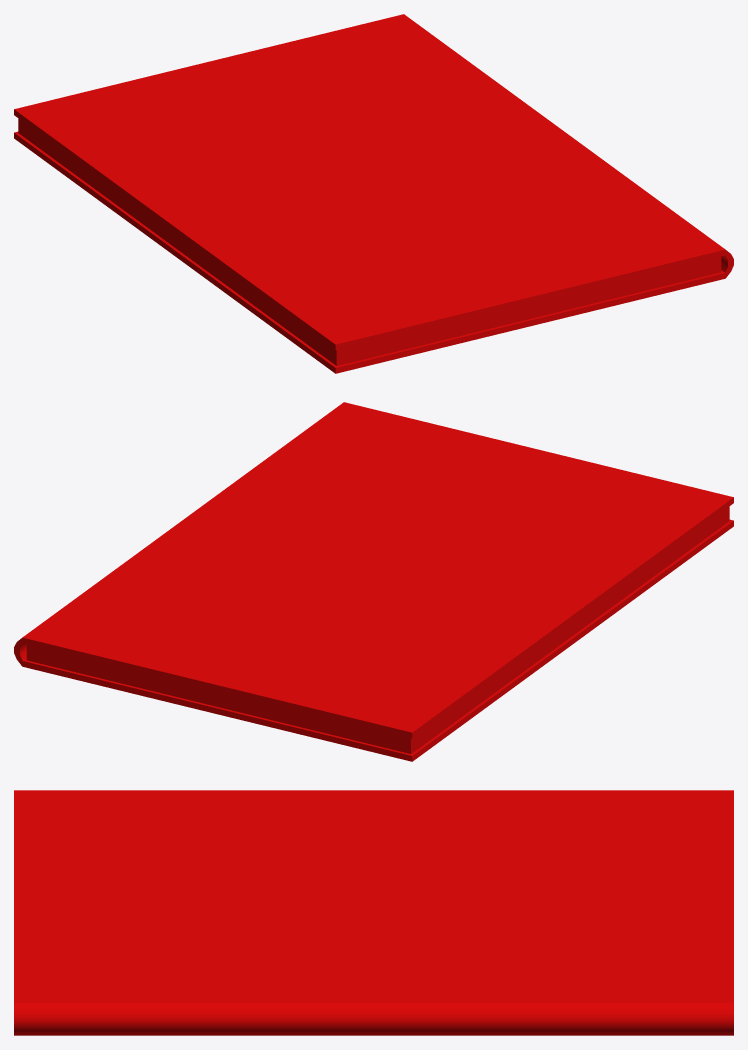
Rendered from u2_documents.fbx.
The picture shows the model from 3 angles, top to bottom: view 1: azimuth 30°, elevation 25°; view 2: azimuth 150°, elevation 25°; view 3: azimuth 270°, elevation 25°; orthographic projection. The views are drawn at different scales.
Visible parts, largest first — view 1: folder_low.001, documents_low.001; view 2: folder_low.001, documents_low.001; view 3: folder_low.001.
Part boxes in pixels (box(x1,y1,x2,y2)): folder_low.001: box(14, 14, 733, 373); documents_low.001: box(18, 118, 721, 365); folder_low.001: box(14, 402, 733, 761); documents_low.001: box(26, 506, 729, 753); folder_low.001: box(14, 790, 733, 1035).
Size of the model in its own units: 35.75 by 2.5 by 50.
